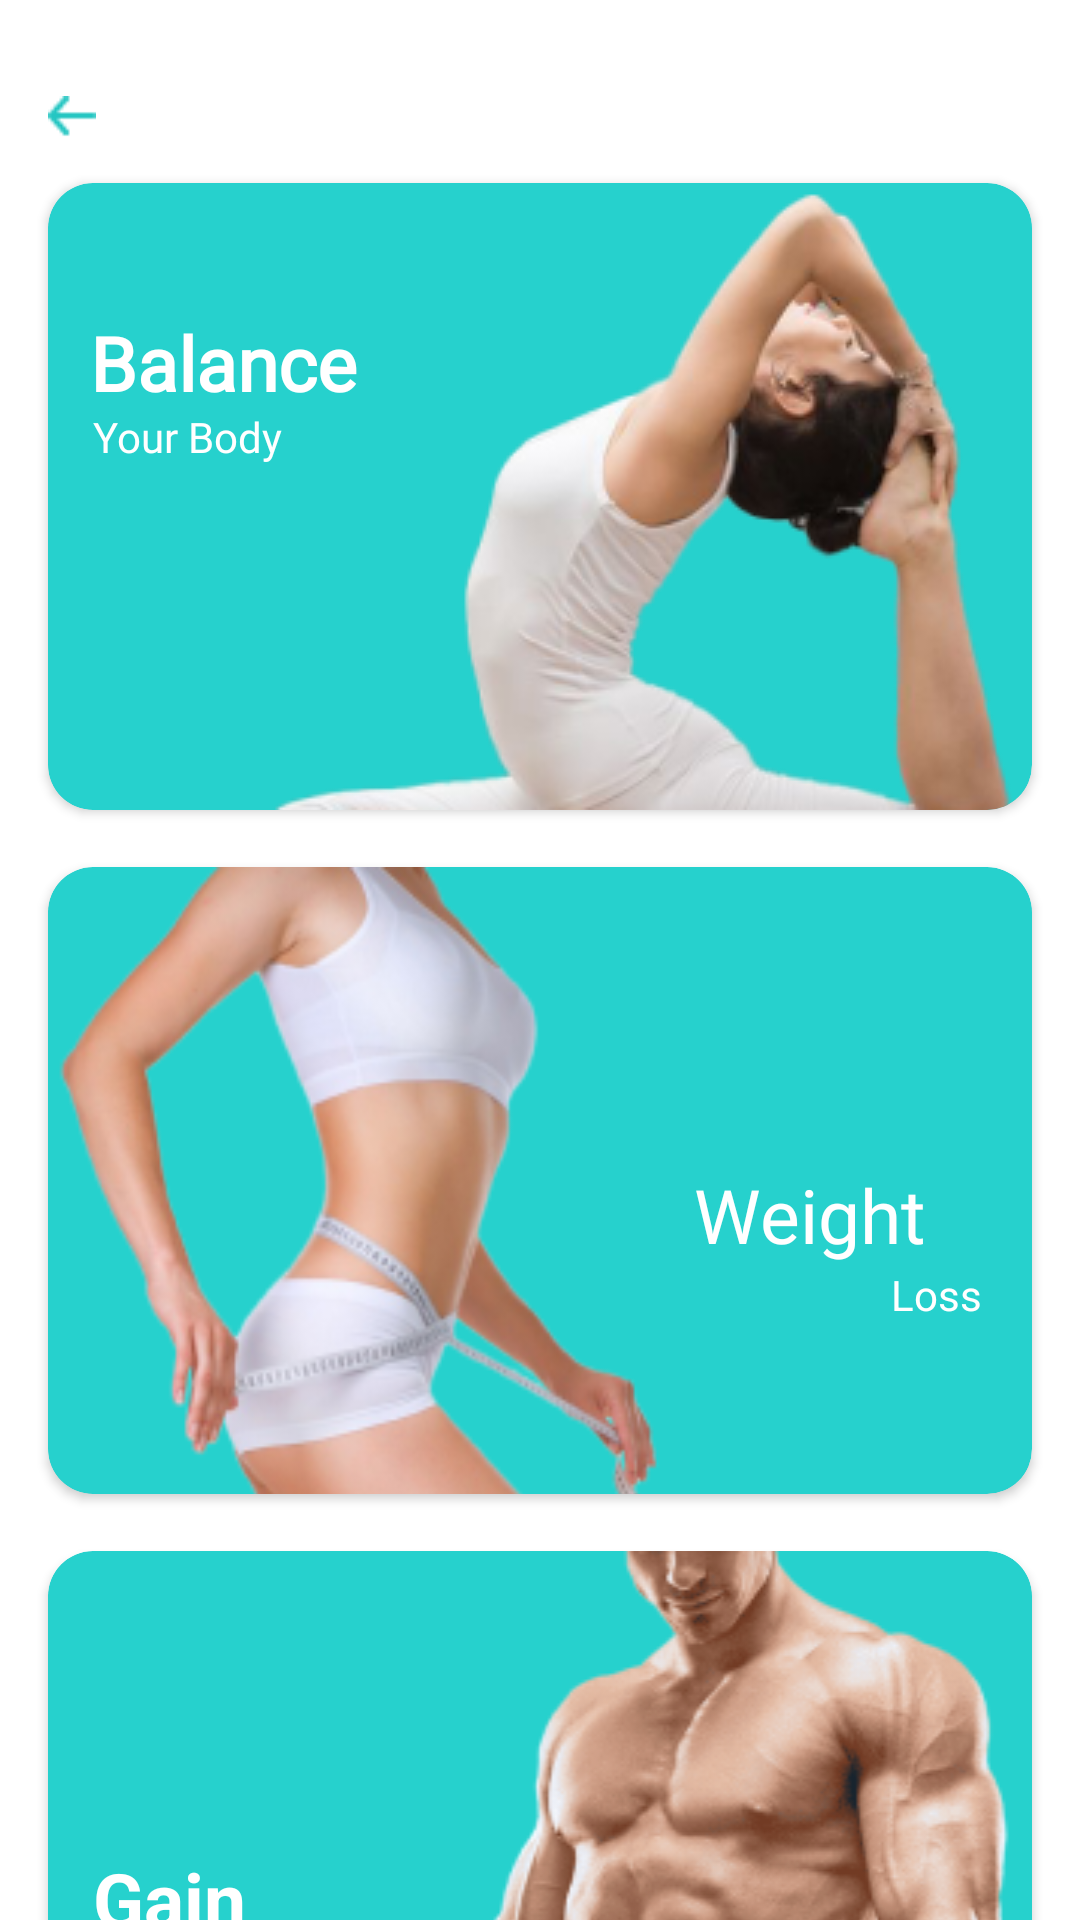

Screen size 1080*1920. Icon name, then its center in pixels as (x,y):
backgreen vektor: (72,116)
